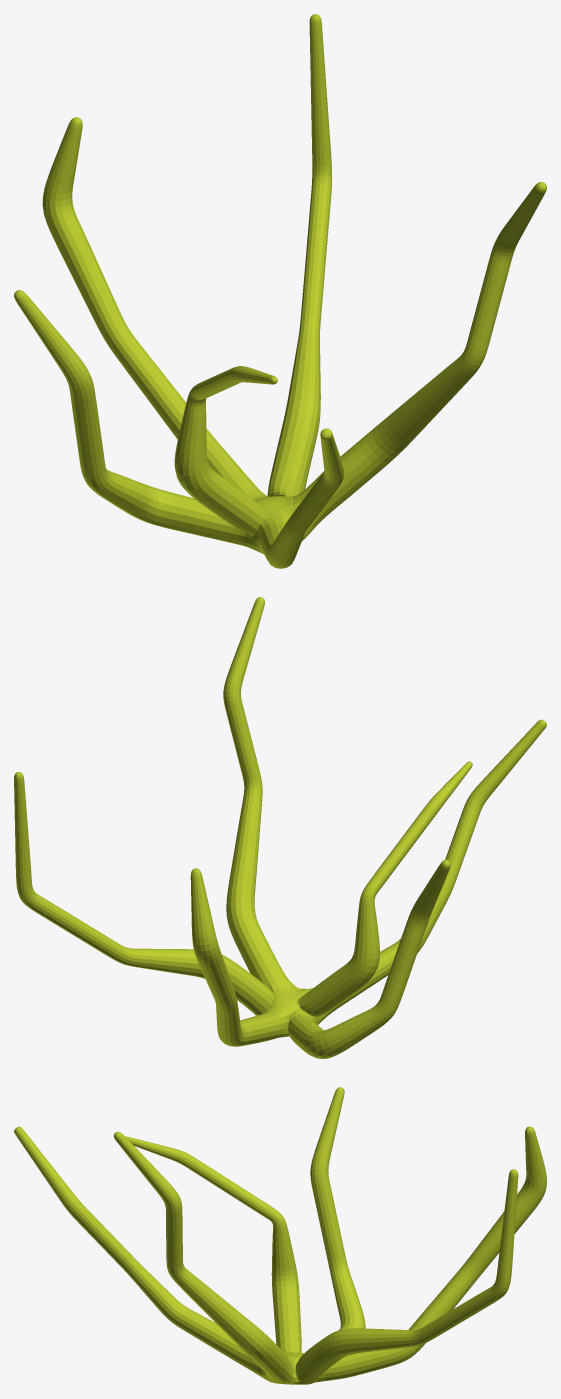
The model's file is GoldFruit0.1.fbx.
3 renders of one model, top to bottom at view 1: azimuth 30°, elevation 25°; view 2: azimuth 150°, elevation 25°; view 3: azimuth 270°, elevation 25°, orthographic. The views are drawn at different scales.
Parts seen in each view (by area): view 1: Cube; view 2: Cube; view 3: Cube.
Part boxes in pixels (x1=…): Cube: x1=14, y1=14, x2=546, y2=568; Cube: x1=14, y1=597, x2=546, y2=1058; Cube: x1=14, y1=1087, x2=546, y2=1384.
Bounding box in the file's own units: 619 × 572 × 891.
